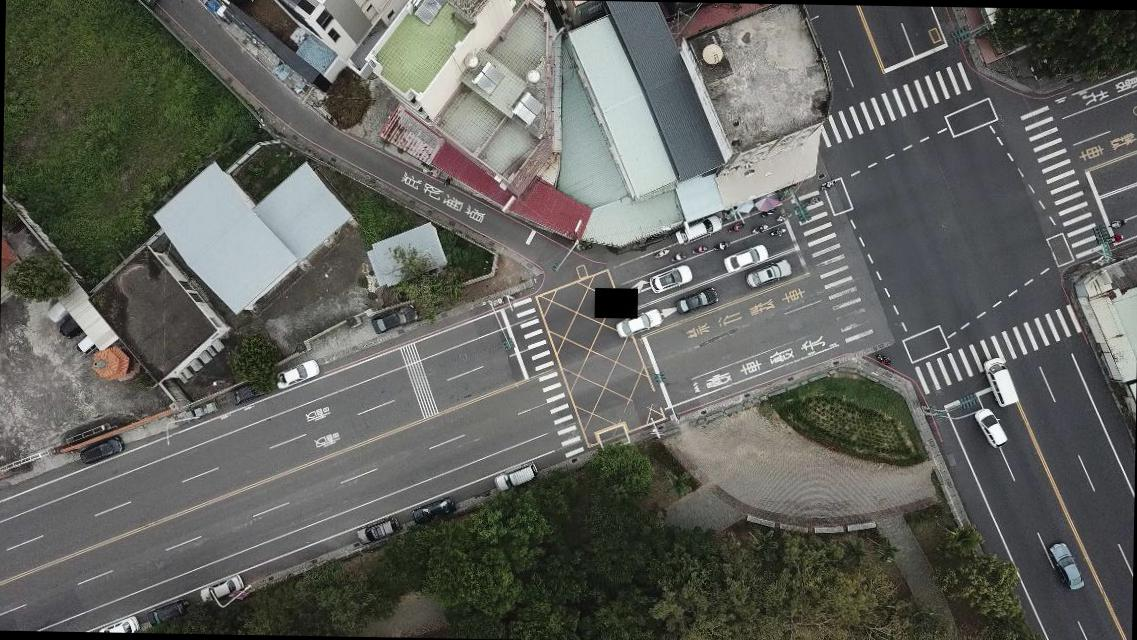vehicle: (982, 356, 1019, 408), (1050, 541, 1086, 591), (616, 306, 664, 342), (198, 572, 248, 606), (370, 302, 420, 336), (492, 458, 539, 493), (79, 433, 126, 468), (675, 213, 724, 246), (746, 258, 794, 290), (673, 284, 721, 316), (411, 494, 459, 526), (724, 242, 769, 276), (648, 262, 695, 294), (354, 515, 401, 547), (972, 407, 1008, 448), (274, 359, 320, 391), (146, 598, 190, 628), (229, 377, 274, 406)
